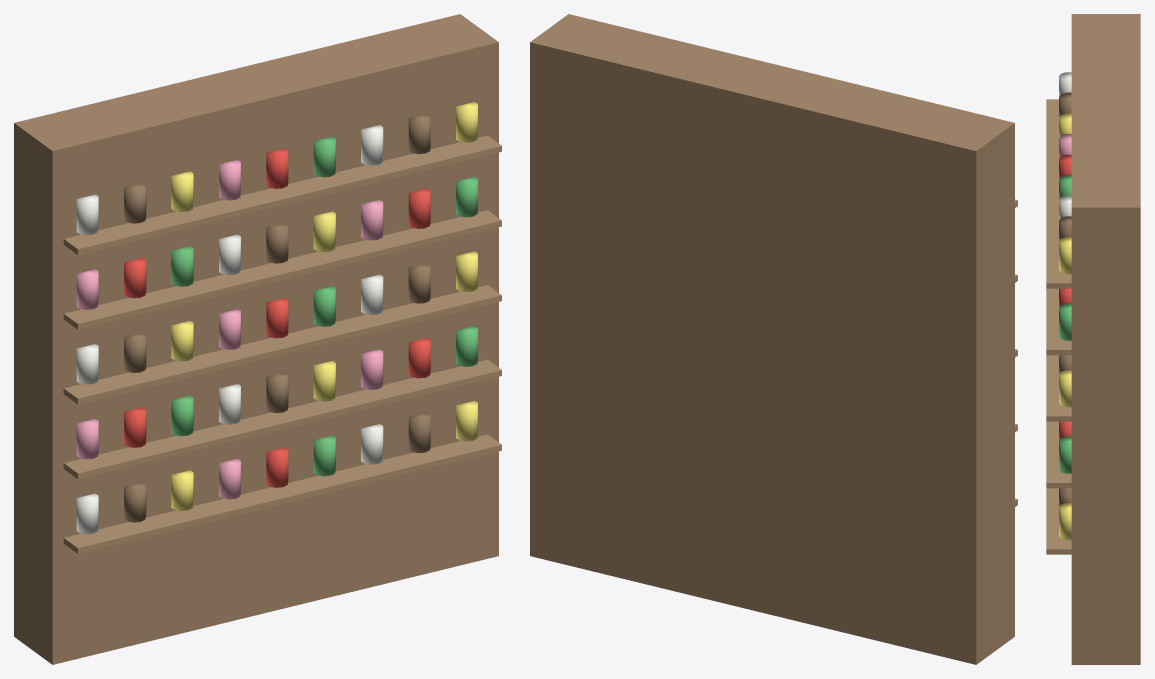
File: tea_shelf.glb
3 views of the same model, side by side, from view 1: azimuth 30°, elevation 25°; view 2: azimuth 150°, elevation 25°; view 3: azimuth 270°, elevation 25° (orthographic). The views are drawn at different scales.
Parts seen in each view (by area): view 1: tea_shelf; view 2: tea_shelf; view 3: tea_shelf.
Part boxes in pixels (box(x1,y1,x2,y2)): tea_shelf: box(14, 14, 501, 664); tea_shelf: box(530, 14, 1017, 664); tea_shelf: box(1046, 14, 1140, 664).
Size of the model in its own units: 2 by 2.2 by 0.41.
